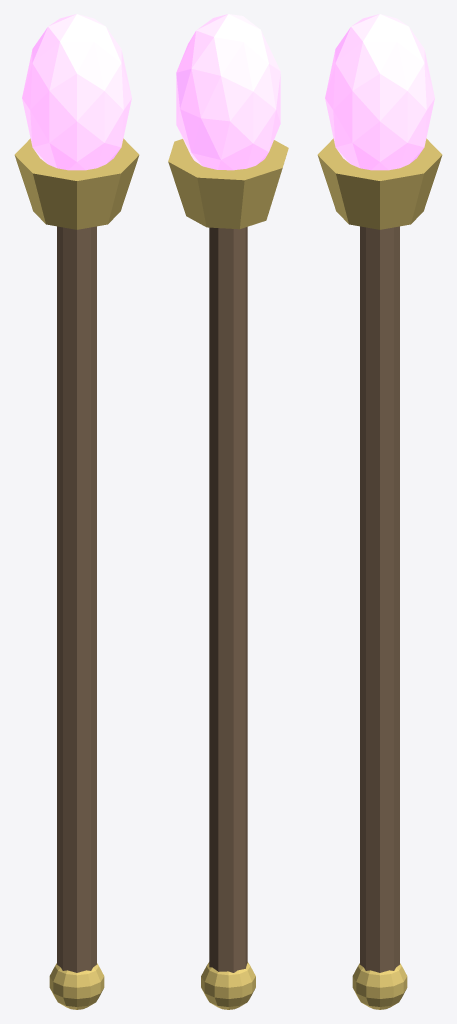
The model's file is staff_arcane.glb.
3 renders of one model, left to right at view 1: azimuth 90°, elevation 25°; view 2: azimuth 150°, elevation 25°; view 3: azimuth 270°, elevation 25°, orthographic.
Parts seen in each view (by area): view 1: staff_arcane_00, staff_arcane_02, staff_arcane_01, staff_arcane_03; view 2: staff_arcane_00, staff_arcane_02, staff_arcane_01, staff_arcane_03; view 3: staff_arcane_00, staff_arcane_02, staff_arcane_01, staff_arcane_03.
Boxes of the visible parts, left/top/right/bottom form: staff_arcane_00: left=57, top=226, right=96, bottom=972; staff_arcane_02: left=22, top=14, right=131, bottom=170; staff_arcane_01: left=14, top=138, right=139, bottom=229; staff_arcane_03: left=49, top=963, right=104, bottom=1009; staff_arcane_00: left=209, top=227, right=247, bottom=972; staff_arcane_02: left=176, top=14, right=280, bottom=170; staff_arcane_01: left=168, top=139, right=288, bottom=229; staff_arcane_03: left=201, top=962, right=255, bottom=1009; staff_arcane_00: left=360, top=226, right=399, bottom=972; staff_arcane_02: left=325, top=14, right=434, bottom=170; staff_arcane_01: left=317, top=138, right=442, bottom=229; staff_arcane_03: left=352, top=963, right=407, bottom=1009.
Size of the model in its own units: 0.2 by 1.75 by 0.2.
